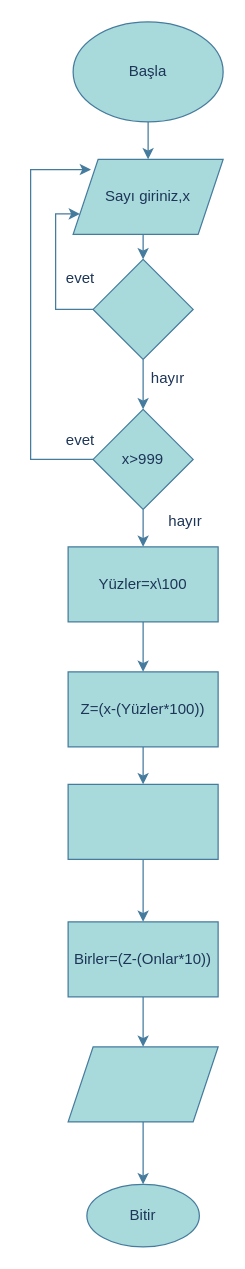
Image size: 245x1269. Some labels were removed from this diagram. Here are the shapes that lost their labels. From the top down, the box of each, then its label:
(92, 258, 193, 359): x<100
(67, 783, 218, 859): Onlar=Z\10
(67, 1046, 218, 1122): Yüzler,Onlar,Birler
